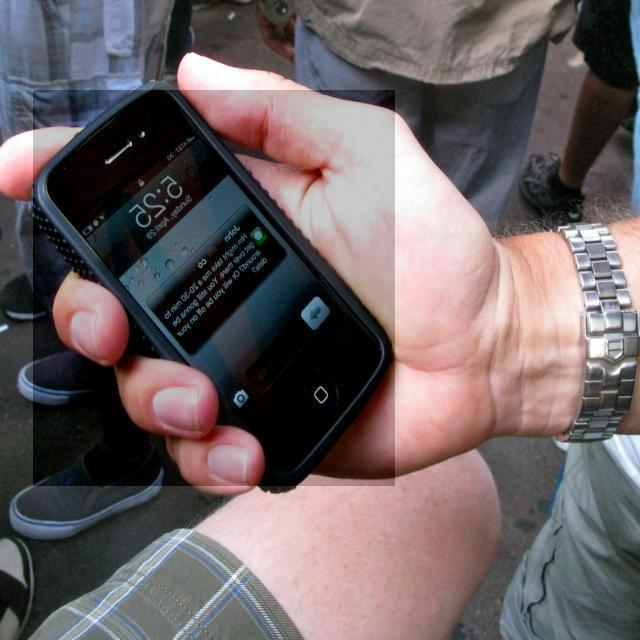mobile: (33, 90, 395, 486)
